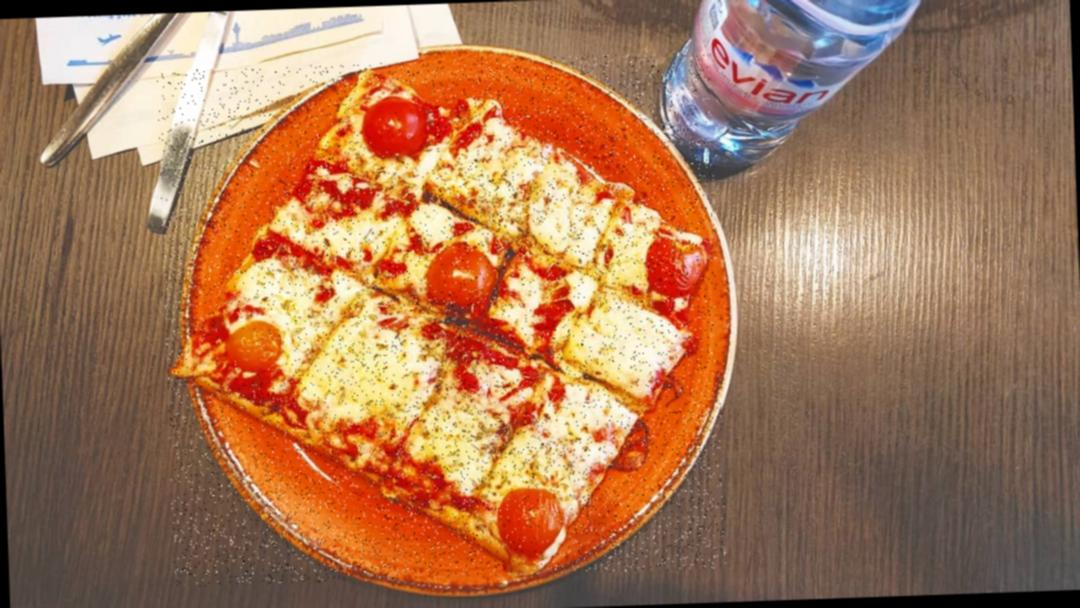Pizza: (158, 51, 728, 587)
Tomatoes: (492, 479, 577, 565), (420, 232, 500, 318), (356, 84, 435, 168), (218, 314, 292, 383), (647, 230, 714, 306)
